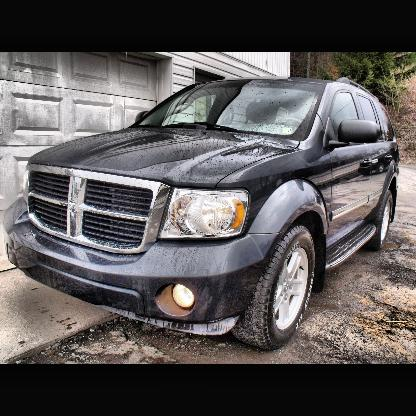Dodge Durango SUV 2007: (4, 78, 400, 350)
